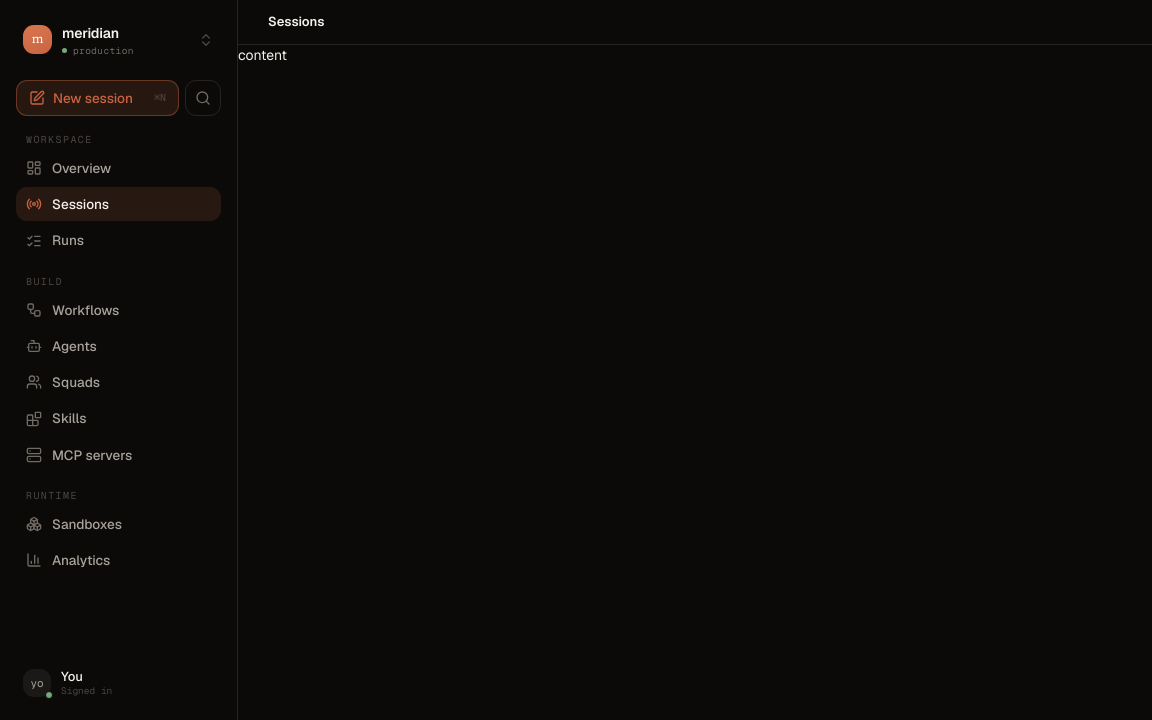
Scenario: AppShell › shows the current workspace and reveals the account menu
Expected: the button with aria-label "switch workspace" shows "meridian", [16,16,221,64]
Click the button with aria-label "account": (118, 683) [16,662,221,704]
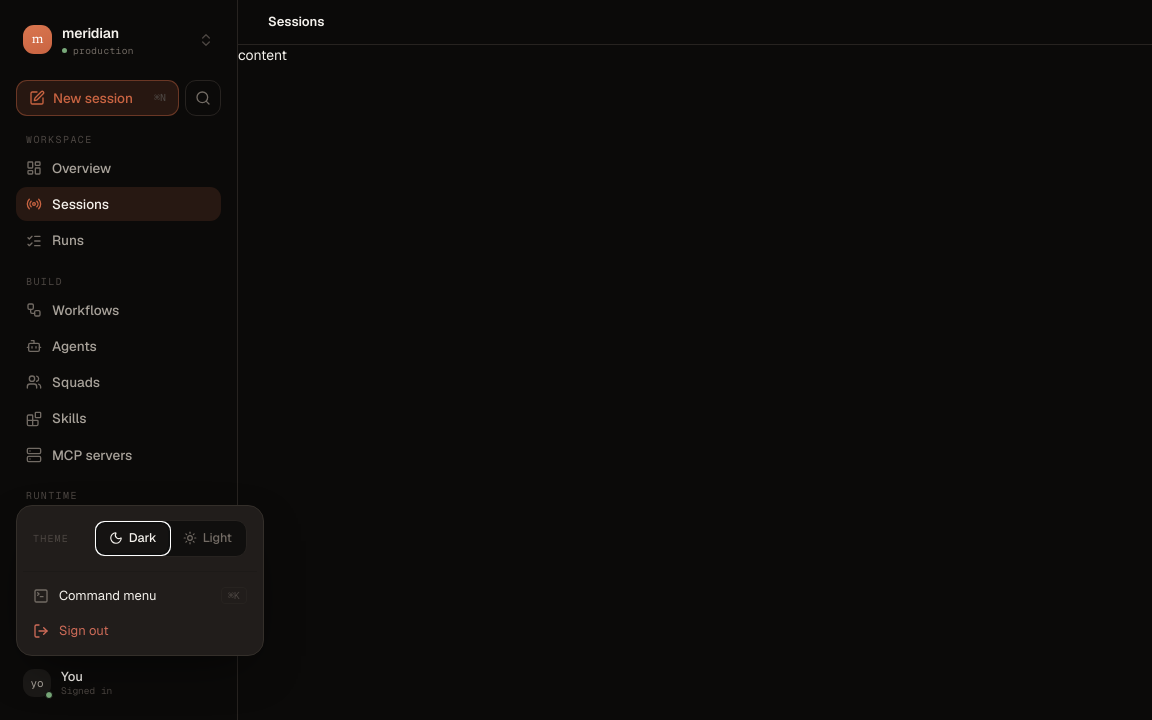
Now the button "Sign out" is shown, box [23,613,257,649]
Now the radio button labelled "Light" is shown, box [171,523,244,554]
